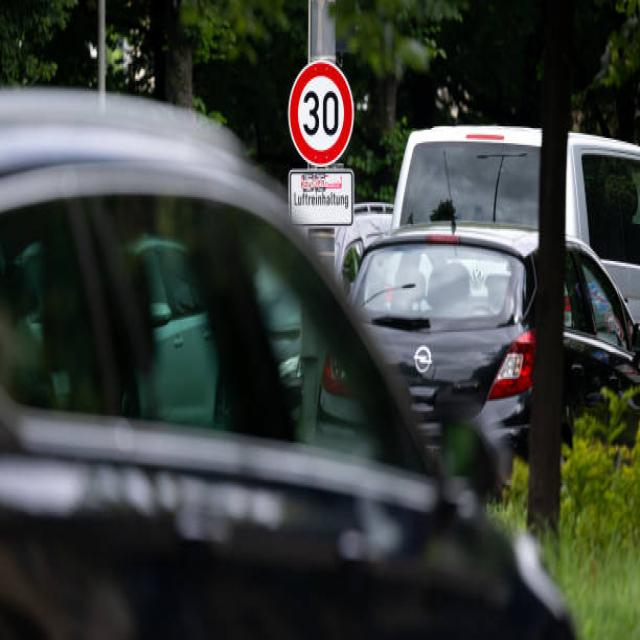Speed limit 30: (287, 57, 357, 168)
